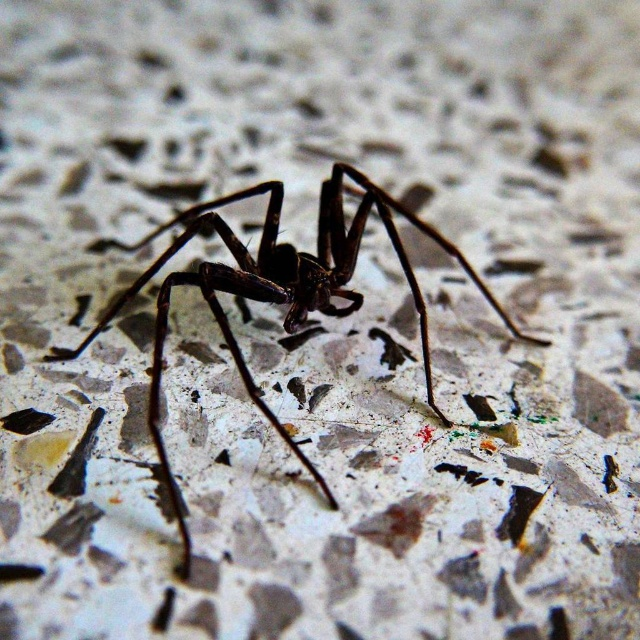Spider: (43, 162, 551, 581)
